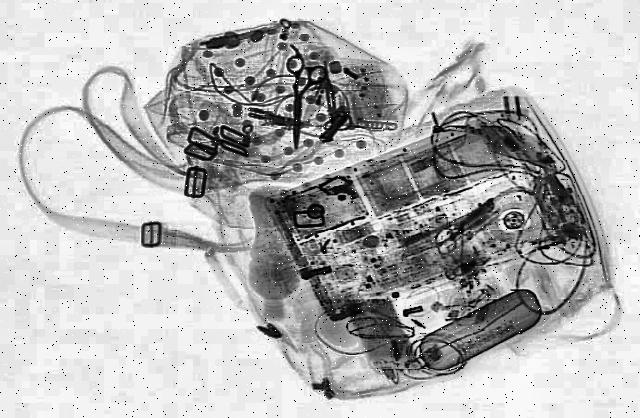Scissors: (276, 58, 330, 150)
